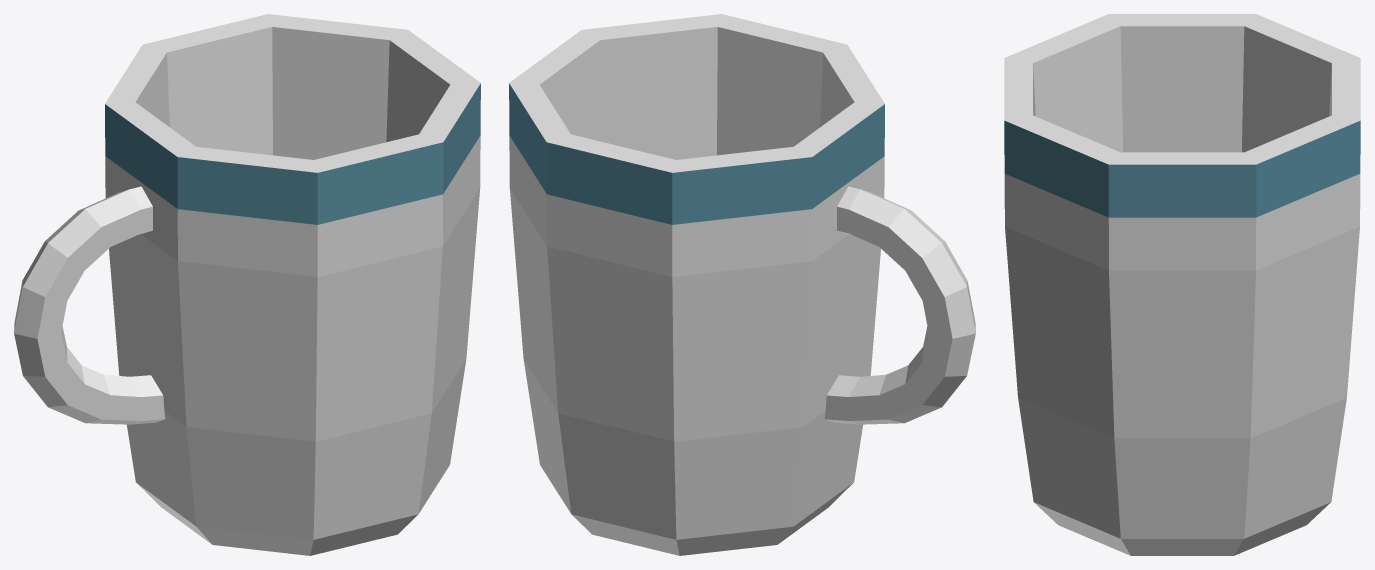
Rendered from SM_Food_Cup_02.fbx.
3 renders of one model, left to right at view 1: azimuth 30°, elevation 25°; view 2: azimuth 150°, elevation 25°; view 3: azimuth 270°, elevation 25°, orthographic.
Parts seen in each view (by area): view 1: SM_Food_Cup_02; view 2: SM_Food_Cup_02; view 3: SM_Food_Cup_02.
Part boxes in pixels (bbox=[...]): SM_Food_Cup_02: bbox=[14, 14, 480, 555]; SM_Food_Cup_02: bbox=[509, 14, 975, 555]; SM_Food_Cup_02: bbox=[1004, 14, 1360, 555].
Bounding box in the file's own units: 0.1318 × 0.1191 × 0.0929.
